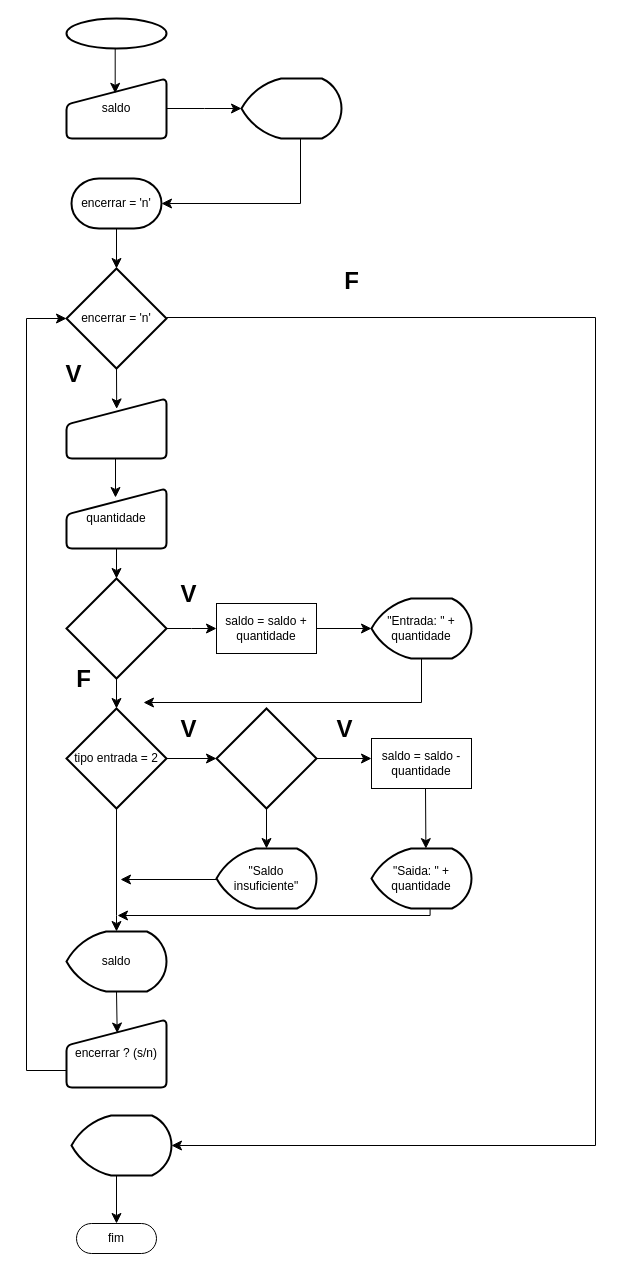
Some shapes in this 623 by 1271 pixel diagram are drawn without their labels. Each missing label, with the box of its shape:
"Saldo inicial: " + saldo: (240, 77, 342, 139)
"Sistema Encerrado": (70, 1114, 172, 1176)
Inicio: (65, 17, 167, 49)
saldo >= quantidade: (215, 707, 317, 809)
tipo de entrada: (65, 397, 167, 459)
tipo entrada = 1: (65, 577, 167, 679)
